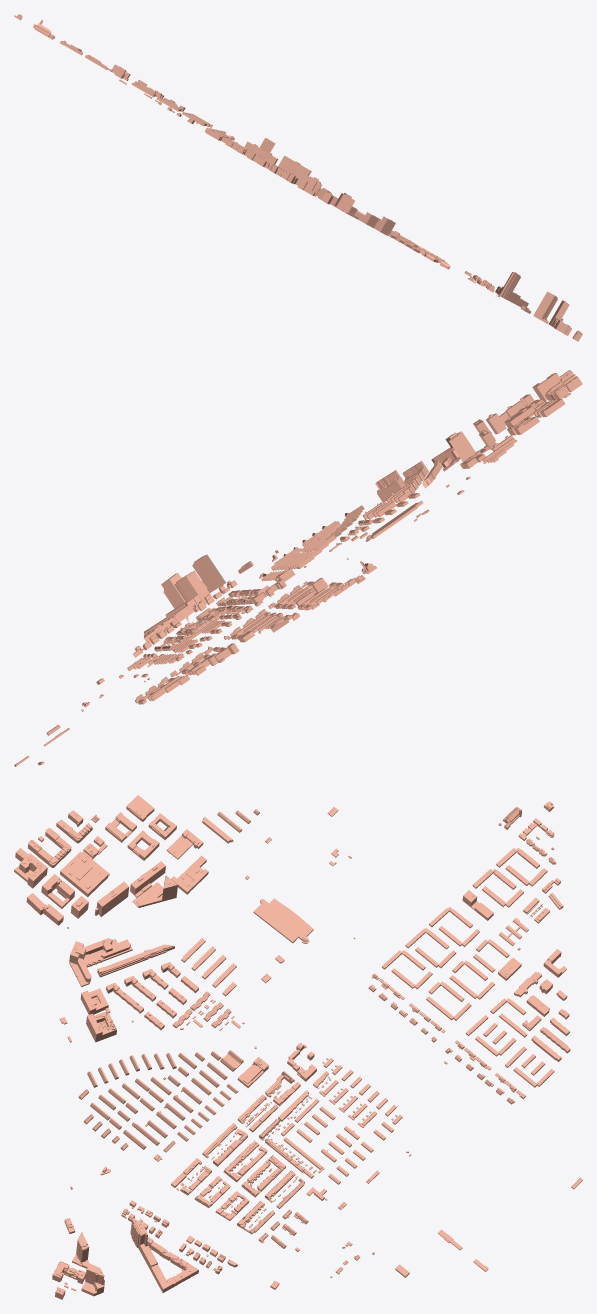
3 renders of one model, top to bottom at view 1: azimuth 30°, elevation 25°; view 2: azimuth 150°, elevation 25°; view 3: azimuth 270°, elevation 25°, orthographic. The views are drawn at different scales.
Bounding box in the file's own units: 3.53e+07 × 2.54e+07 × 4.16e+07.
